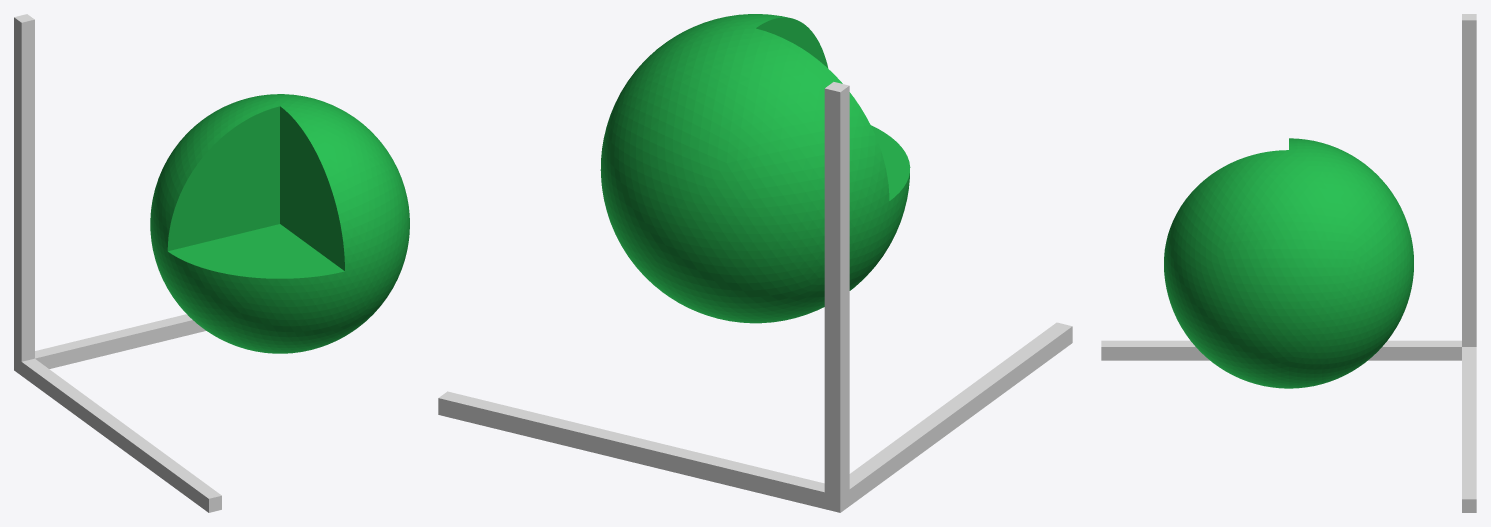
Rendered from esfera 1.fbx.
3 renders of one model, left to right at view 1: azimuth 30°, elevation 25°; view 2: azimuth 150°, elevation 25°; view 3: azimuth 270°, elevation 25°, orthographic. The views are drawn at different scales.
Parts seen in each view (by area): view 1: Mesh_1, Mesh_0; view 2: Mesh_1, Mesh_0; view 3: Mesh_1, Mesh_0.
Boxes of the visible parts, x1,y1,x2,y2 form: Mesh_1: (150, 94, 409, 353); Mesh_0: (14, 14, 221, 512); Mesh_1: (600, 14, 910, 323); Mesh_0: (438, 82, 1072, 512); Mesh_1: (1164, 138, 1413, 388); Mesh_0: (1101, 14, 1476, 512).
Size of the model in its own units: 6 by 6 by 6.
